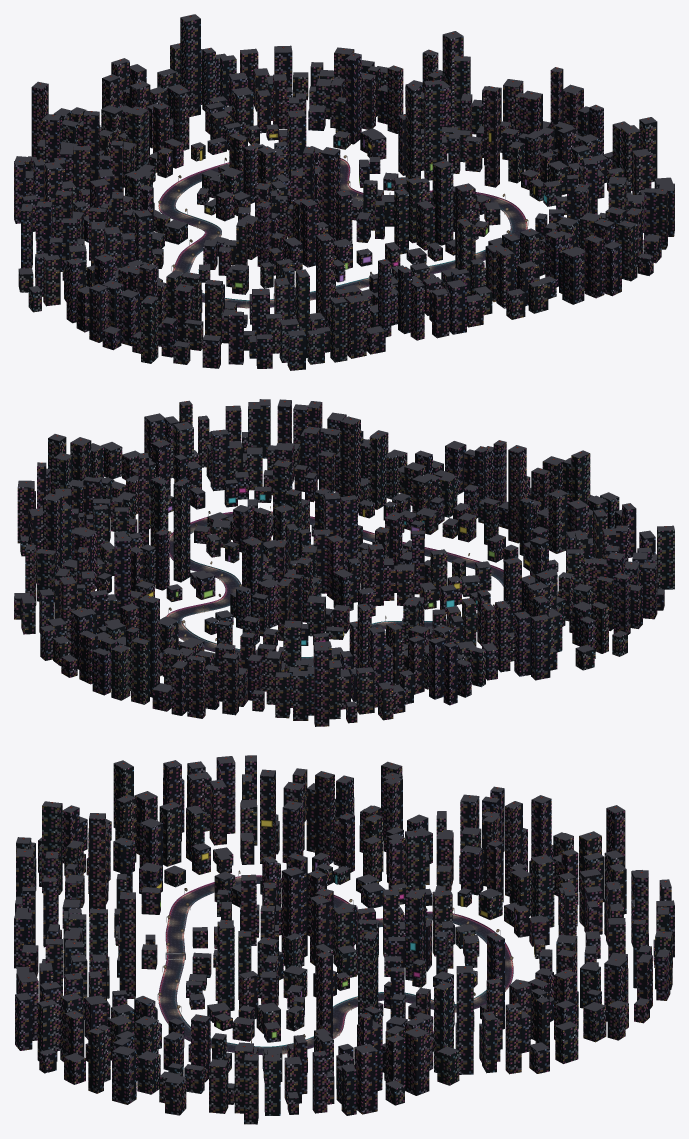
Rendered from track.glb.
The picture shows the model from 3 angles, top to bottom: view 1: azimuth 30°, elevation 25°; view 2: azimuth 150°, elevation 25°; view 3: azimuth 270°, elevation 25°; orthographic projection. The views are drawn at different scales.
Visible parts, largest first — view 1: C8_Facade, C2_Facade, C0_Facade, C4_Facade, C5_Facade, C9_Facade, C1_Facade, C6_Facade, C7_Facade, C3_Facade, C8_Lit, C4_Lit (+10 smaller); view 2: C5_Facade, C8_Facade, C4_Facade, C2_Facade, C6_Facade, C1_Facade, C7_Facade, C9_Facade, C0_Facade, C3_Facade, C8_Lit, C4_Lit (+10 smaller); view 3: C2_Facade, C8_Facade, C1_Facade, C4_Facade, C5_Facade, C6_Facade, C0_Facade, C9_Facade, C3_Facade, C7_Facade, C1_Lit, C2_Lit (+10 smaller).
Boxes of the visible parts, x1,y1,x2,y2 form: C8_Facade: (18, 212, 305, 370); C2_Facade: (398, 57, 657, 214); C0_Facade: (336, 164, 584, 334); C4_Facade: (201, 34, 463, 173); C5_Facade: (31, 18, 287, 203); C9_Facade: (260, 201, 449, 364); C1_Facade: (453, 151, 674, 298); C6_Facade: (14, 112, 302, 242); C7_Facade: (21, 148, 314, 282); C3_Facade: (276, 111, 429, 242); C8_Lit: (19, 210, 305, 347); C4_Lit: (201, 31, 463, 171); C5_Facade: (131, 575, 340, 726); C8_Facade: (461, 493, 674, 670); C4_Facade: (14, 496, 218, 700); C2_Facade: (17, 437, 251, 590); C6_Facade: (296, 538, 485, 723); C1_Facade: (91, 401, 323, 540); C7_Facade: (340, 498, 557, 680); C9_Facade: (358, 442, 590, 582); C0_Facade: (273, 415, 466, 552); C3_Facade: (190, 494, 339, 628); C8_Lit: (461, 489, 674, 652); C4_Lit: (14, 493, 218, 661); C2_Facade: (234, 921, 459, 1124); C8_Facade: (31, 757, 354, 907); C1_Facade: (15, 974, 258, 1115); C4_Facade: (408, 921, 672, 1074); C5_Facade: (432, 808, 674, 974); C6_Facade: (315, 788, 573, 957); C0_Facade: (14, 897, 274, 1019); C9_Facade: (15, 803, 278, 957); C3_Facade: (257, 871, 453, 1015); C7_Facade: (260, 765, 432, 956); C1_Lit: (15, 971, 259, 1088); C2_Lit: (235, 919, 458, 1098).
Size of what is drawn, in the model's own units: 1032 by 165 by 913.
Materials: 5 (2 with a texture image).
